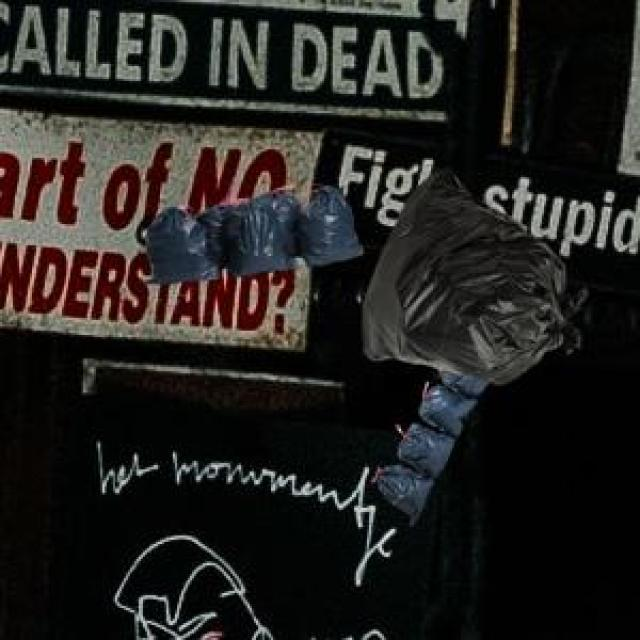garbage_bag: (356, 162, 584, 386)
